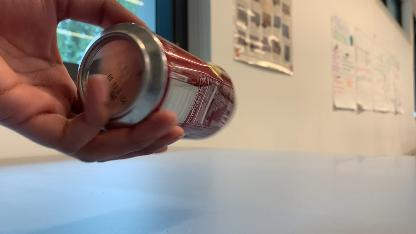Can: (71, 22, 239, 150)
